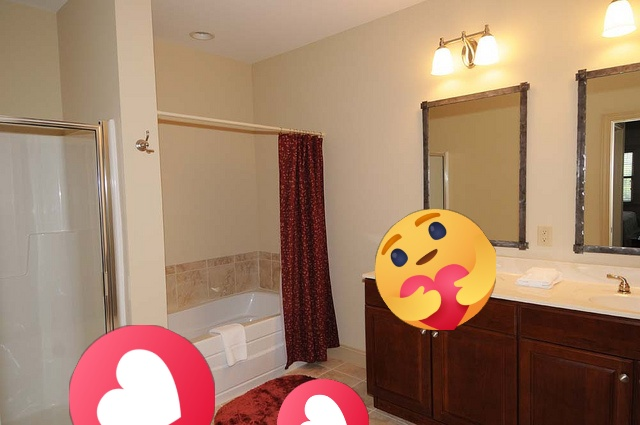care: (375, 209, 496, 330)
love: (69, 325, 215, 425), (277, 379, 369, 425)
